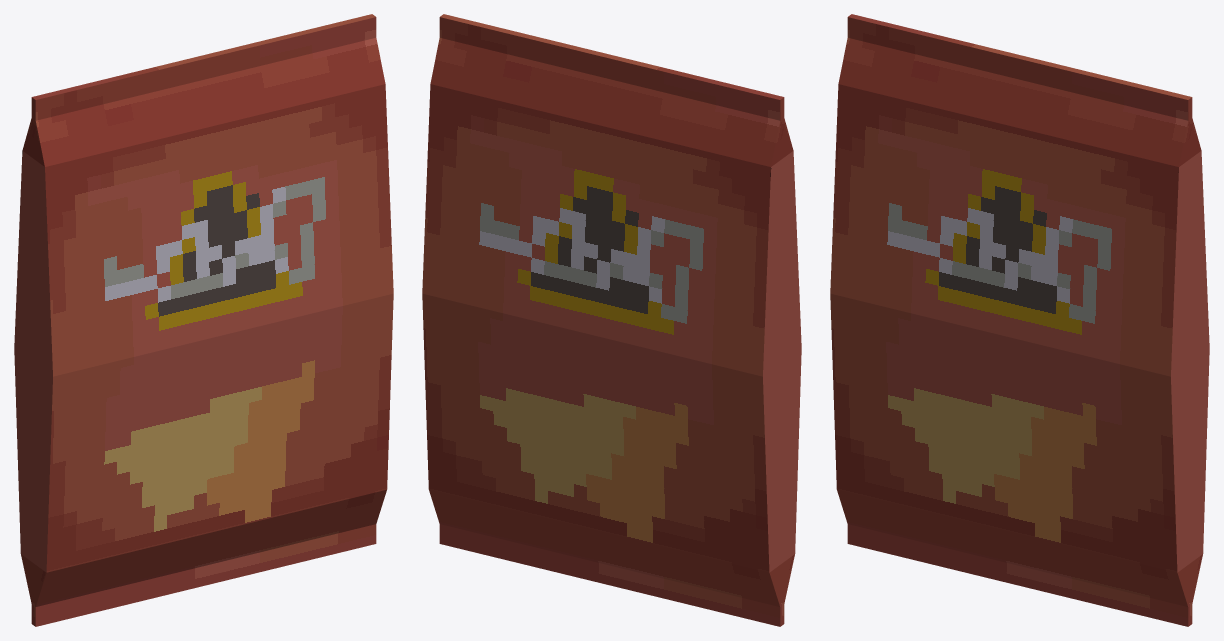
Rendered from Chip1.fbx.
The picture shows the model from 3 angles, left to right: view 1: azimuth 30°, elevation 25°; view 2: azimuth 150°, elevation 25°; view 3: azimuth 330°, elevation 25°; orthographic projection.
Parts seen in each view (by area): view 1: Cube.002; view 2: Cube.002; view 3: Cube.002.
Part boxes in pixels (x1,y1,x2,y2): Cube.002: [14, 14, 393, 626]; Cube.002: [422, 14, 801, 626]; Cube.002: [830, 14, 1209, 626].
Size of the model in its own units: 157 by 232 by 30.98.
Materials: 1 (1 with a texture image).
